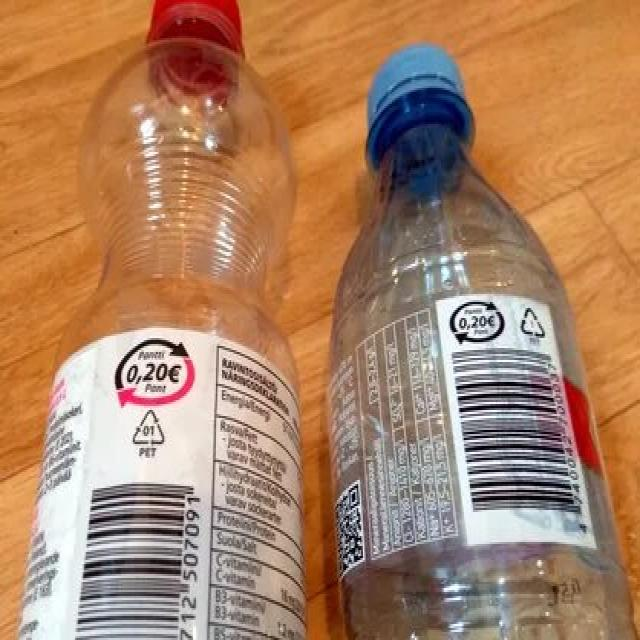blue: (327, 93, 636, 640)
